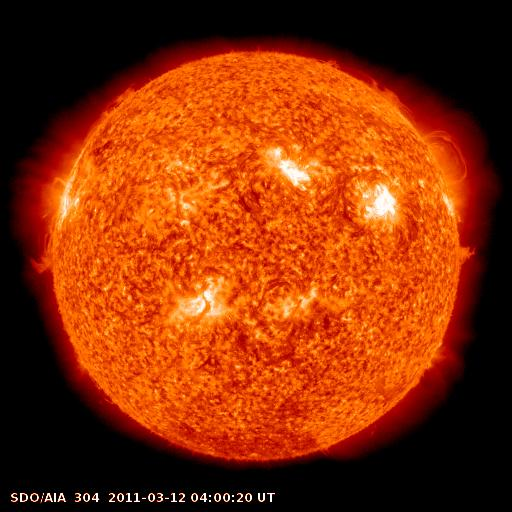prominence: (317, 48, 417, 122), (81, 74, 155, 147), (415, 122, 483, 193), (23, 224, 73, 285), (447, 233, 489, 280)
